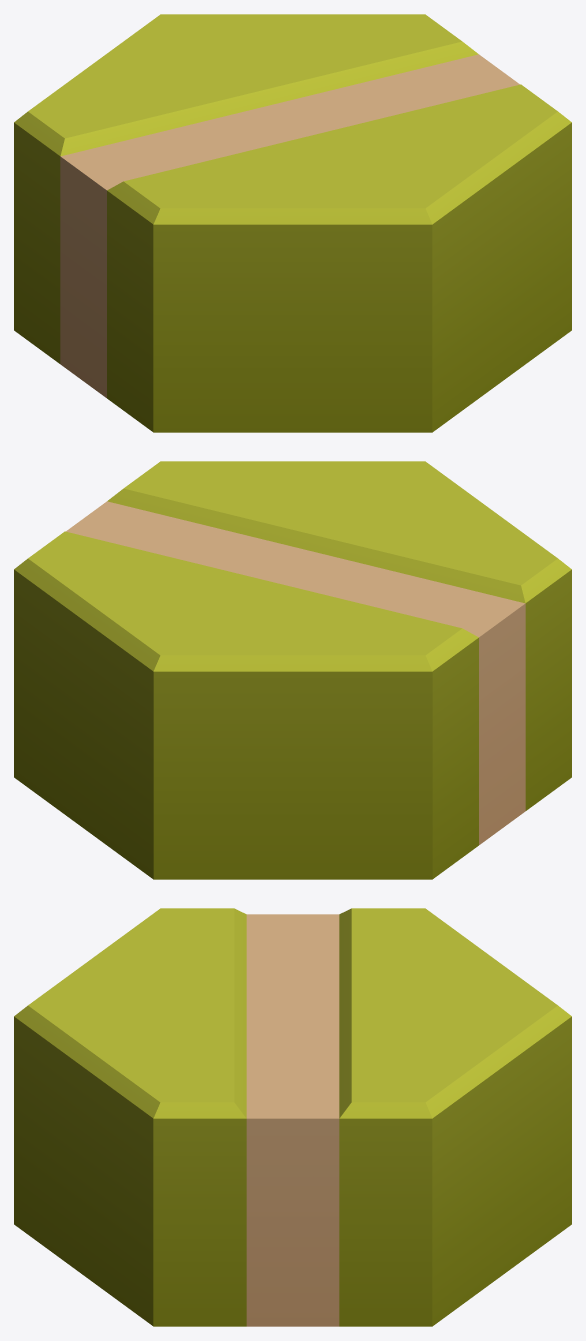
The model's file is path-straight.glb.
3 renders of one model, top to bottom at view 1: azimuth 30°, elevation 25°; view 2: azimuth 150°, elevation 25°; view 3: azimuth 270°, elevation 25°, orthographic.
Visible parts, largest first — view 1: hex_road_A; view 2: hex_road_A; view 3: hex_road_A.
Boxes of the visible parts, x1=… form: hex_road_A: x1=14, y1=14, x2=571, y2=432; hex_road_A: x1=14, y1=461, x2=571, y2=879; hex_road_A: x1=14, y1=908, x2=571, y2=1326.
Bounding box in the file's own units: 2 × 1 × 2.31.
Materials: 1 (1 with a texture image).
